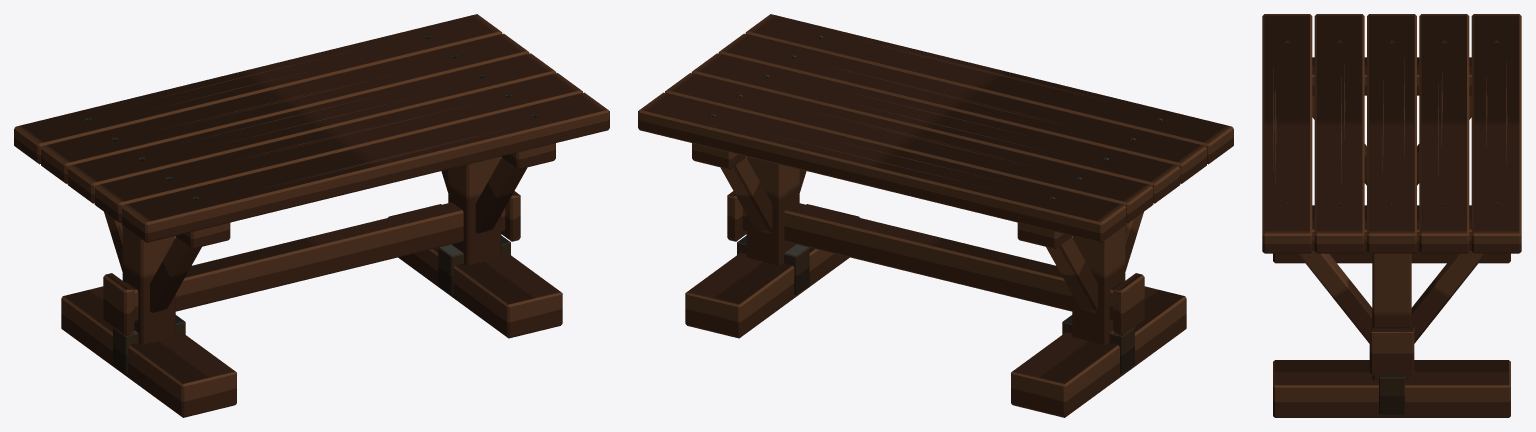
File: Table_Trestle.fbx
3 renders of one model, left to right at view 1: azimuth 30°, elevation 25°; view 2: azimuth 150°, elevation 25°; view 3: azimuth 270°, elevation 25°, orthographic. The views are drawn at different scales.
Parts seen in each view (by area): view 1: Table_Trestle; view 2: Table_Trestle; view 3: Table_Trestle.
Boxes of the visible parts, x1,y1,x2,y2 form: Table_Trestle: (14, 14, 609, 417); Table_Trestle: (638, 14, 1233, 417); Table_Trestle: (1262, 14, 1521, 417).
Size of the model in its own units: 2 by 0.8699 by 0.99.
Materials: 2 (2 with a texture image).
